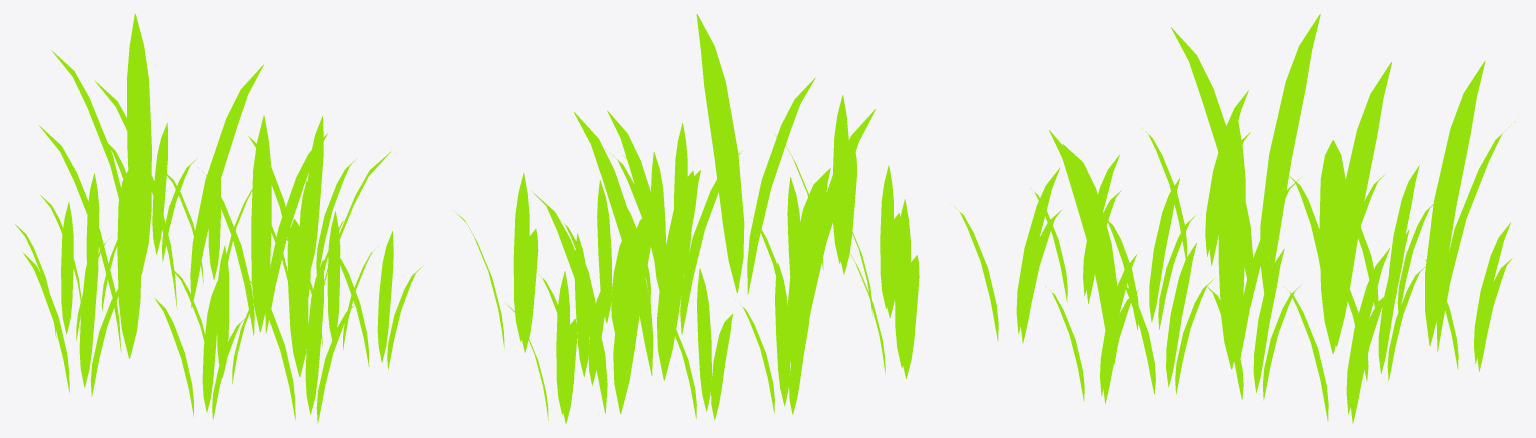
File: MidleGrass.fbx
The picture shows the model from 3 angles, left to right: view 1: azimuth 30°, elevation 25°; view 2: azimuth 150°, elevation 25°; view 3: azimuth 270°, elevation 25°; orthographic projection. The views are drawn at different scales.
Visible parts, largest first — view 1: Plane; view 2: Plane; view 3: Plane.
Boxes of the visible parts, x1,y1,x2,y2 form: Plane: (14, 14, 423, 423); Plane: (453, 14, 919, 423); Plane: (950, 14, 1519, 423).
Bounding box in the file's own units: 319 × 190 × 387.
